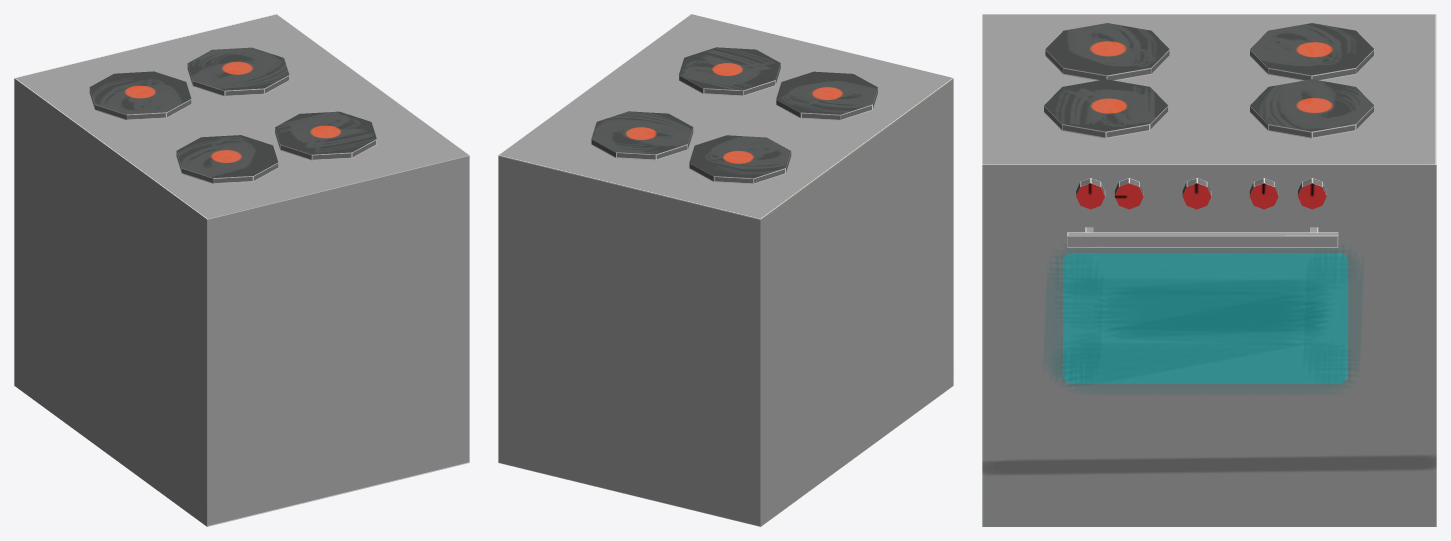
File: Stove.fbx
3 views of the same model, side by side, from view 1: azimuth 30°, elevation 25°; view 2: azimuth 150°, elevation 25°; view 3: azimuth 270°, elevation 25° (orthographic). The views are drawn at different scales.
Visible parts, largest first — view 1: pCube5; view 2: pCube5; view 3: pCube5.
Boxes of the visible parts, bbox=[...] form: pCube5: bbox=[14, 14, 469, 526]; pCube5: bbox=[498, 14, 953, 526]; pCube5: bbox=[982, 14, 1436, 526].
Size of the model in its own units: 12.15 by 13.11 by 14.63.
